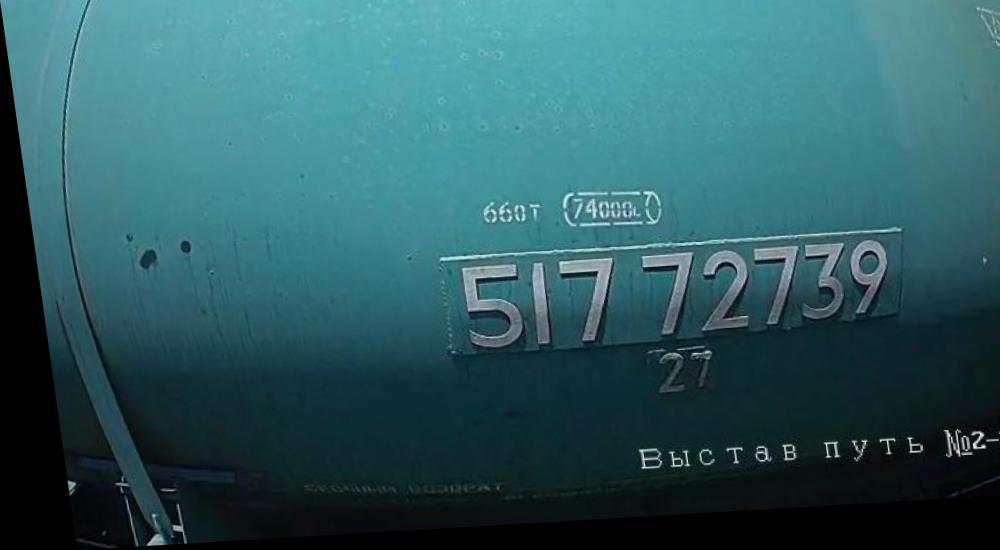Wagon-number: (439, 237, 891, 356)
